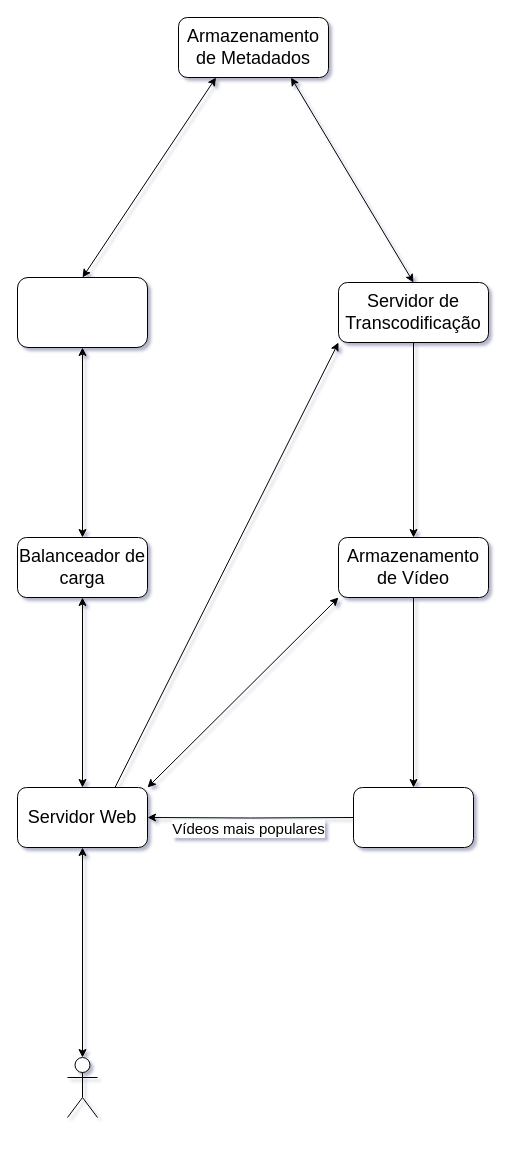
Image size: 512x1170. Some labels were removed from this diagram. The centre of each missing label's shape, as x and y in pixels:
CDN: (413,817)
Servidor de Aplicação (API): (82,312)
Usuário: (82,1087)
